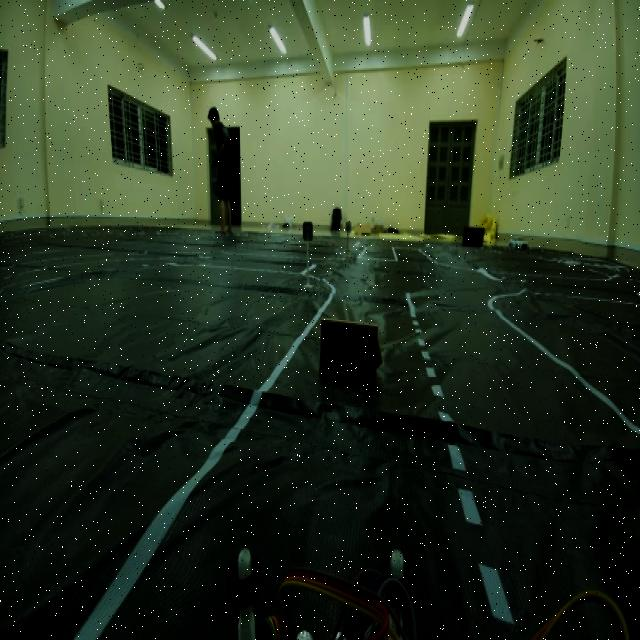roadblock: (314, 306, 386, 394)
